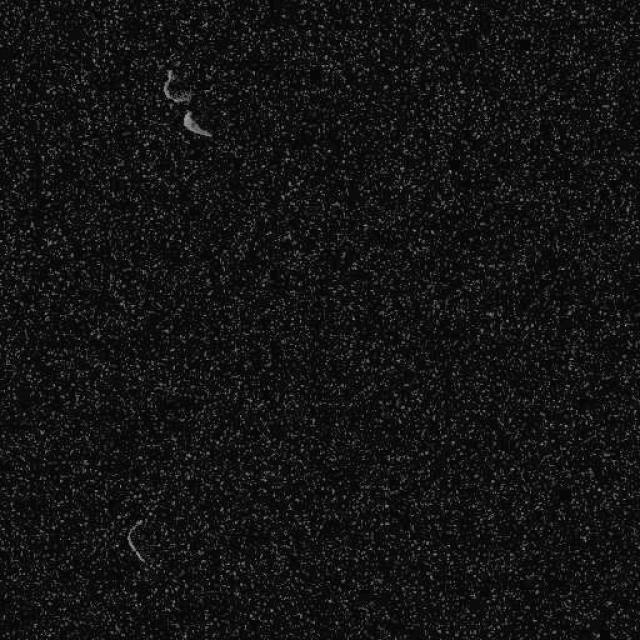D2: (125, 518, 149, 566), (161, 68, 191, 104), (182, 109, 212, 139)
